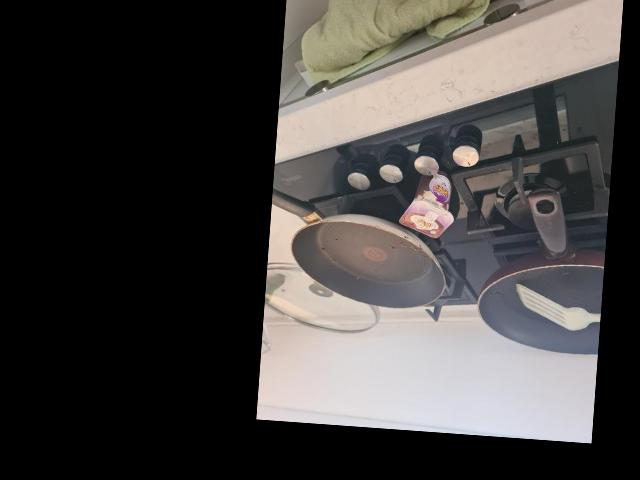milky: (401, 170, 456, 239)
